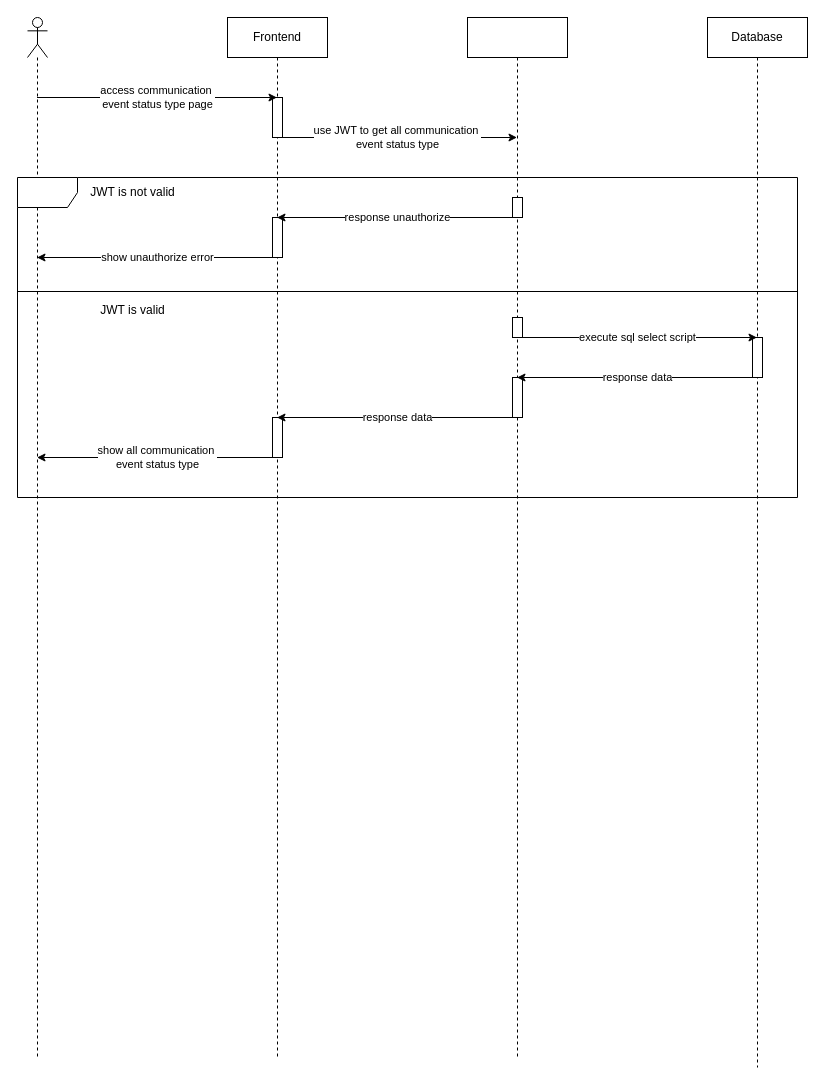
Image size: 825x1085. Some labels were removed from this diagram. The box of each missing label's shape, as (x1, y1, x2, y2) in pixels:
Backend: (466, 16, 568, 1058)
condition: (16, 176, 798, 498)
